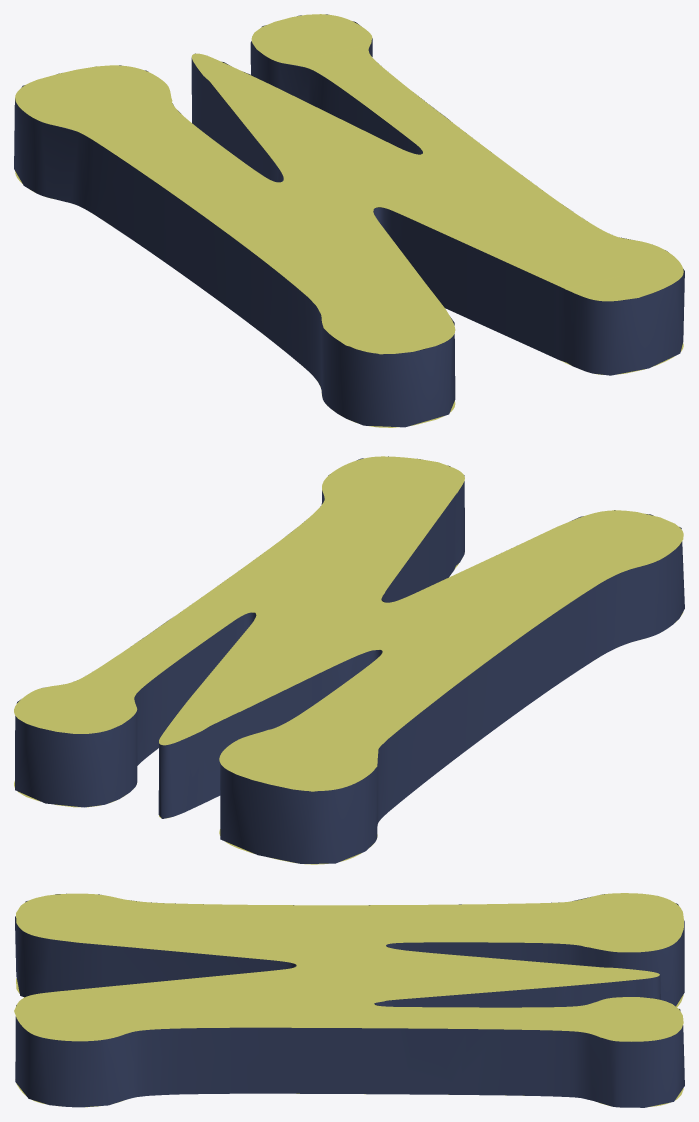
The model's file is m_boss.fbx.
3 views of the same model, one above another, from view 1: azimuth 30°, elevation 25°; view 2: azimuth 150°, elevation 25°; view 3: azimuth 270°, elevation 25° (orthographic). The views are drawn at different scales.
Visible parts, largest first — view 1: M; view 2: M; view 3: M.
Boxes of the visible parts, x1=… form: M: x1=14, y1=14, x2=684, y2=427; M: x1=14, y1=456, x2=684, y2=864; M: x1=14, y1=893, x2=684, y2=1107.
Bounding box in the file's own units: 0.7743 × 0.16 × 1.47.
